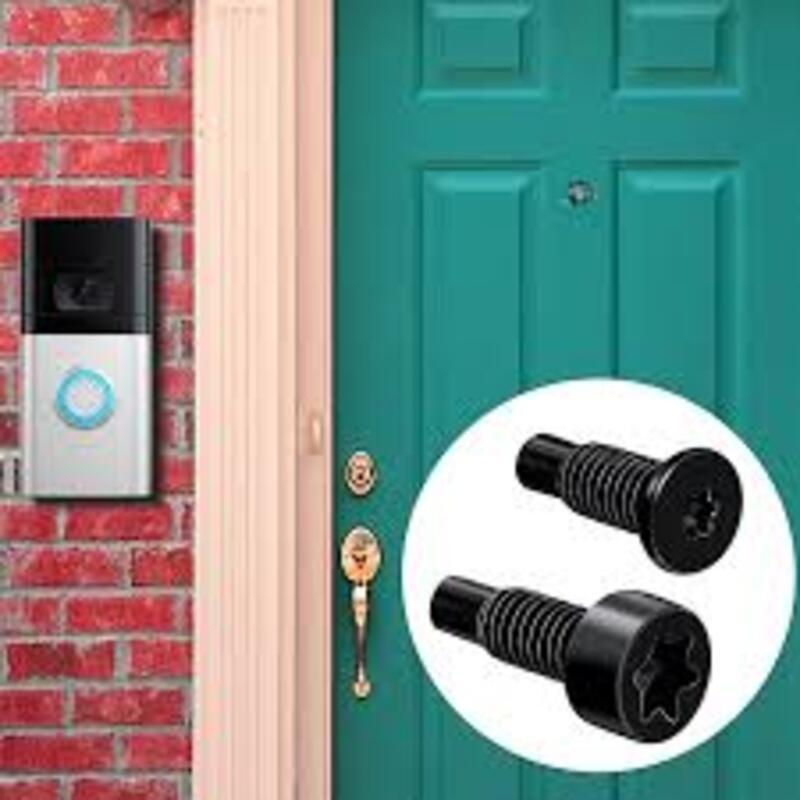doorbell: (10, 211, 162, 507)
